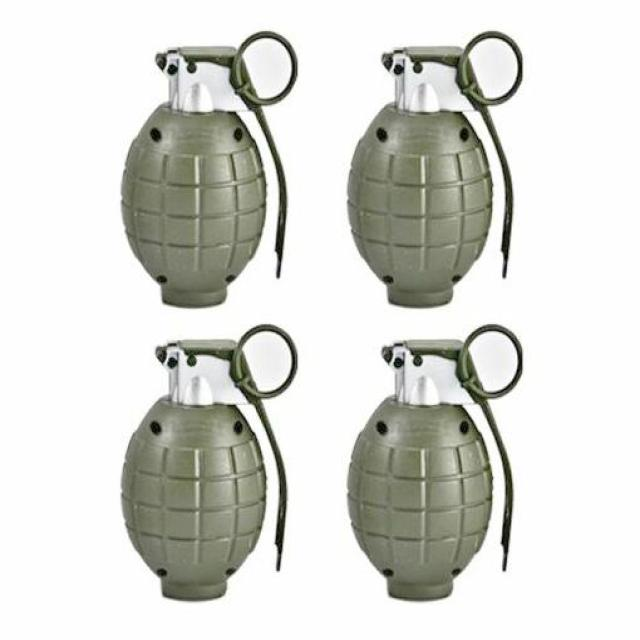grenade: (348, 325, 526, 603), (120, 325, 297, 603), (348, 35, 525, 310), (120, 38, 297, 310)
